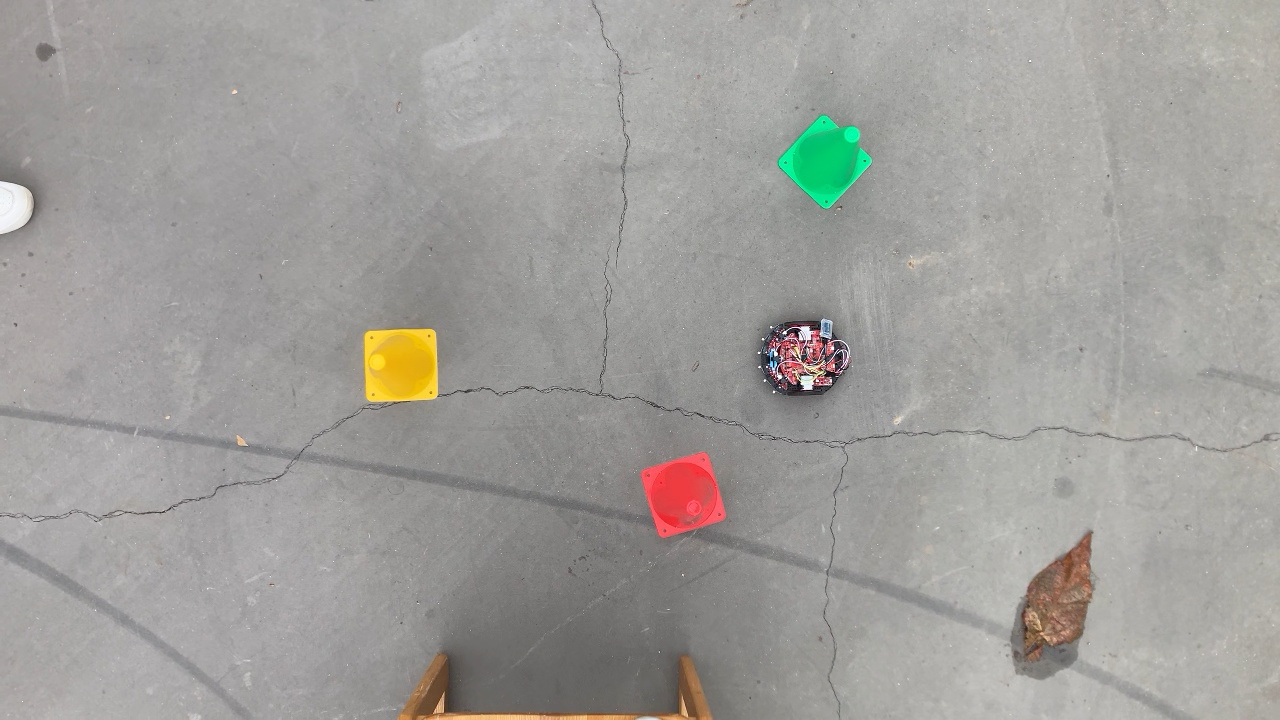green_cone: (773, 113, 876, 216)
red_cone: (634, 448, 732, 543)
robot: (755, 316, 859, 401)
yellow_cone: (358, 325, 442, 407)
